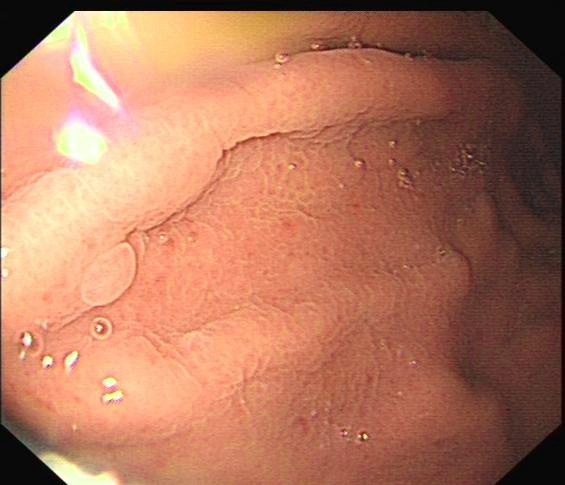Polyp: (66, 229, 151, 326)
